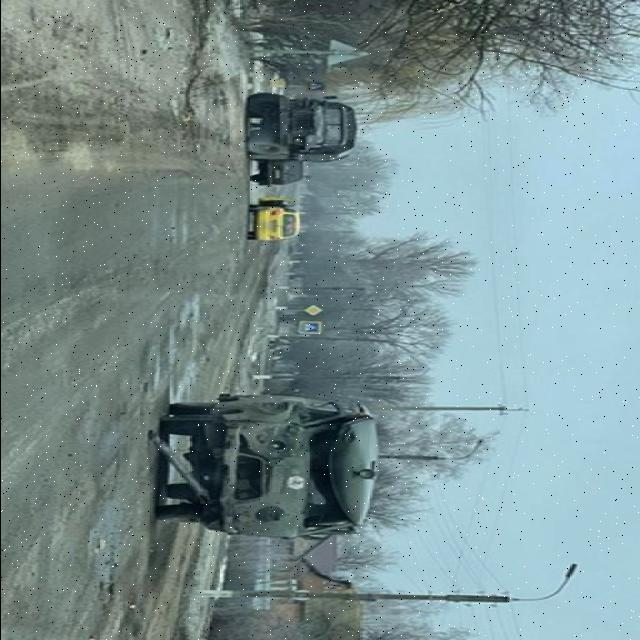CAR: (140, 393, 384, 542), (245, 196, 302, 242), (247, 148, 309, 188)
TRUCK: (242, 91, 366, 161)
